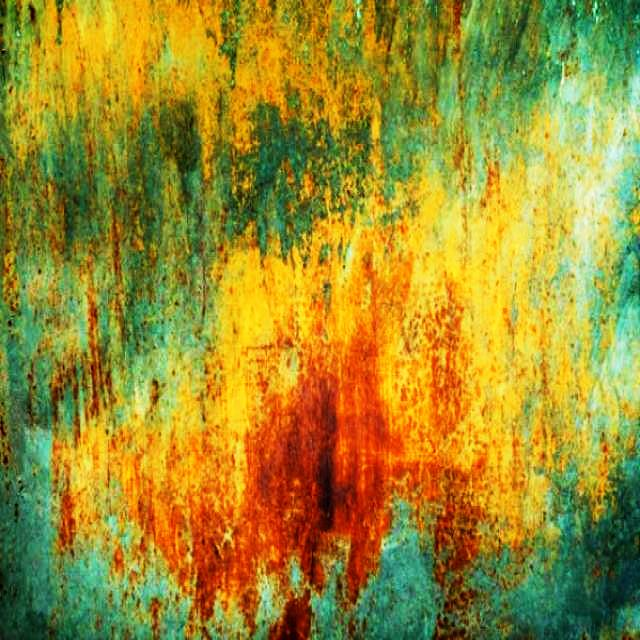Corrosion: (194, 229, 491, 640), (52, 310, 218, 562)
